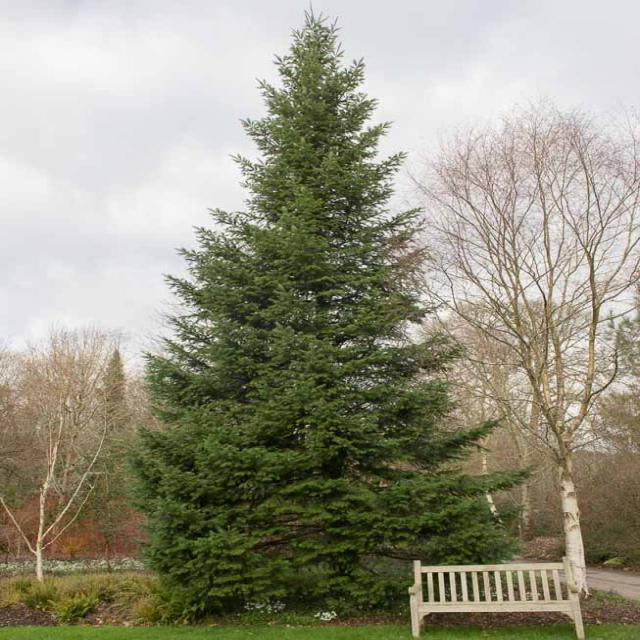Abies: (143, 6, 518, 610)
